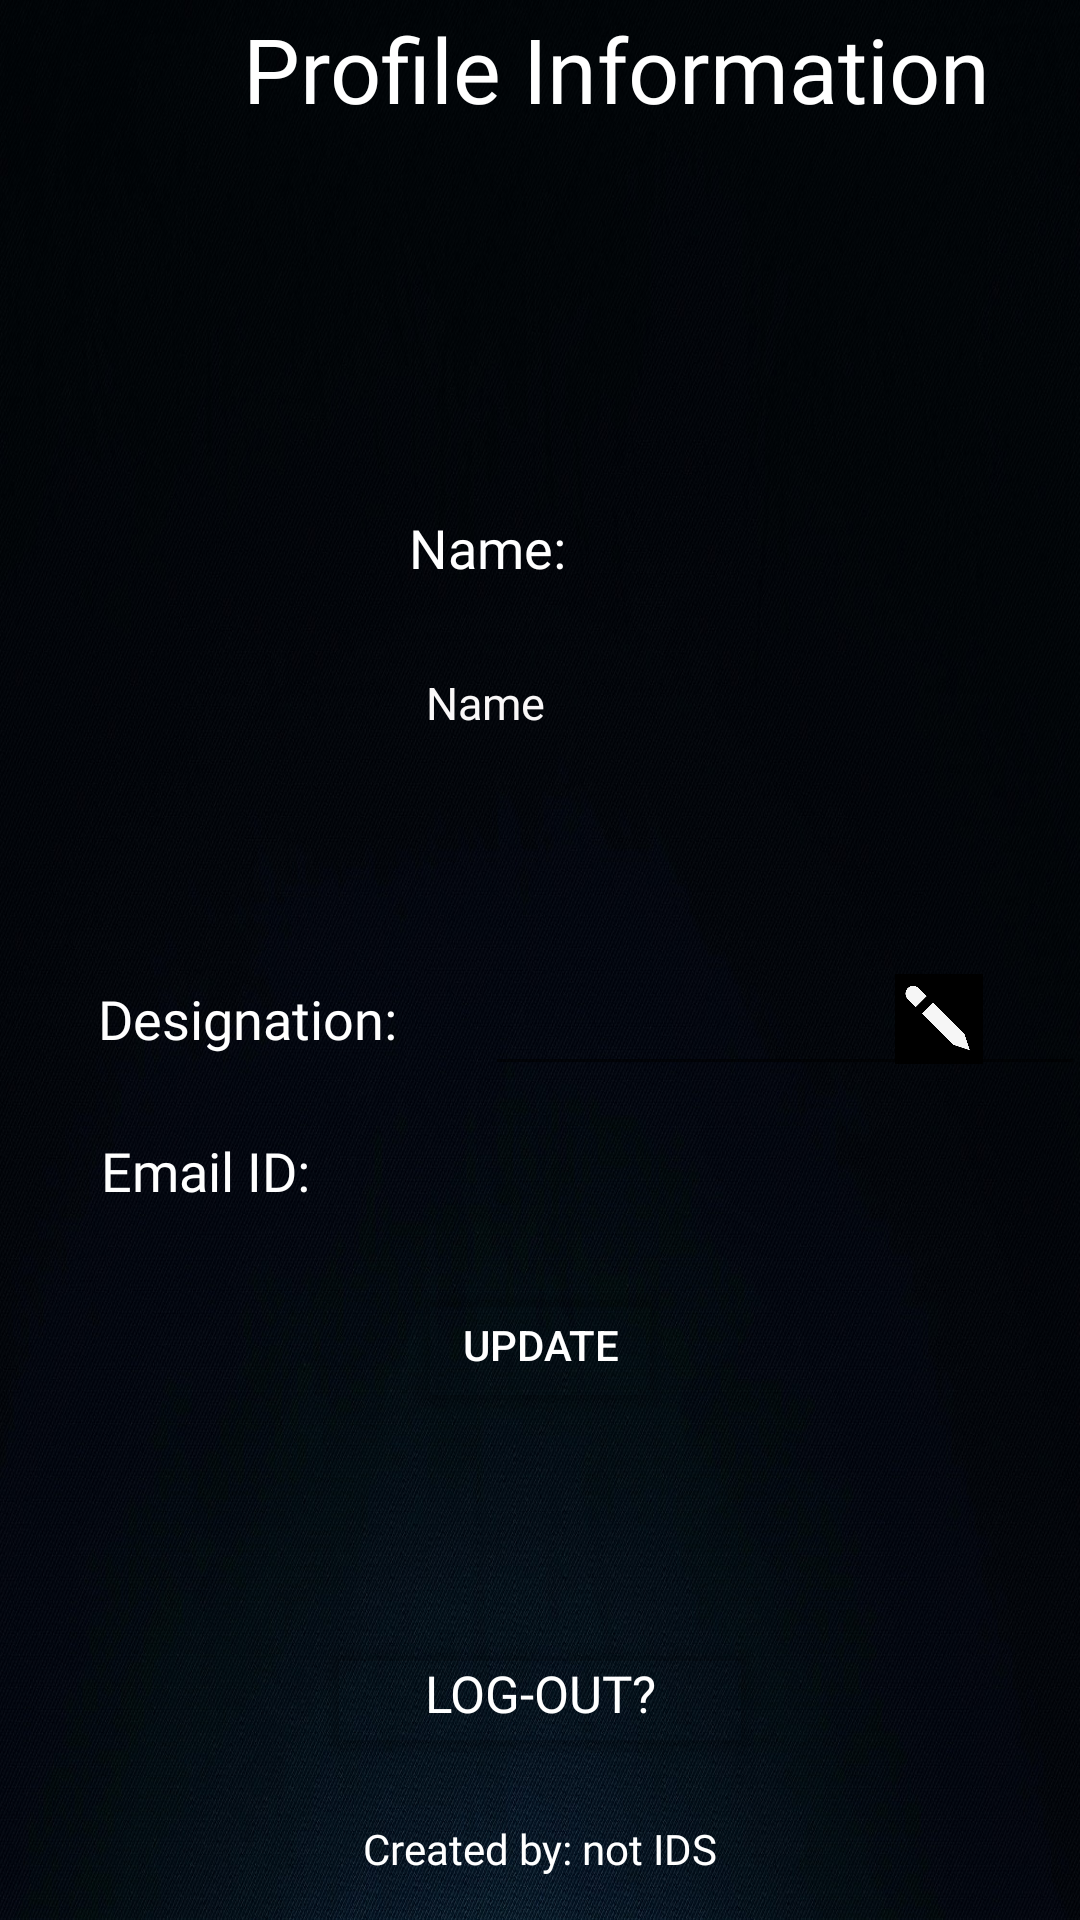

Point at icon controls on the screen. Image size 1080*1920, points as point (x, y).
pencil: point (937, 1018)
